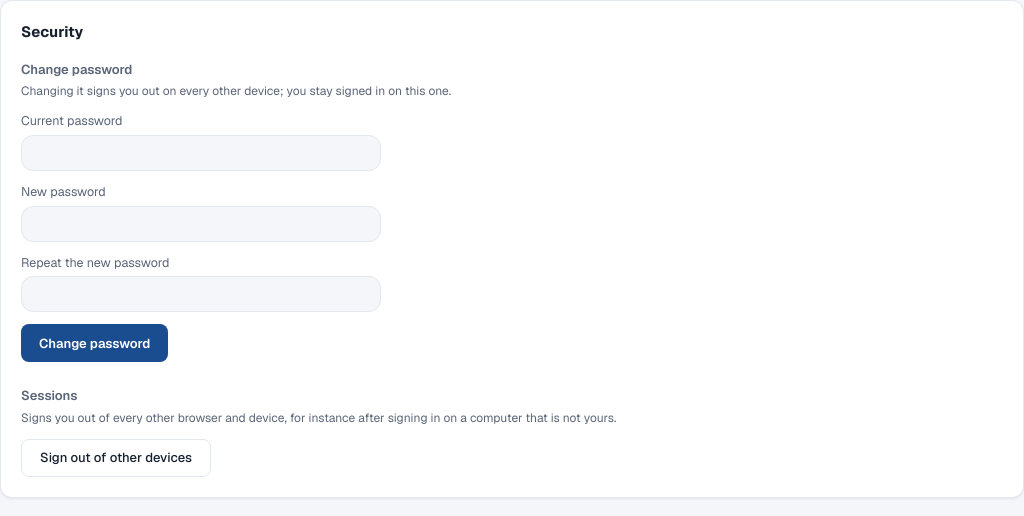
Test: changing the password › checks the minimum length before sending anything
Step 1. Type "old-password" into the password field labelled "Current password" → (201, 153), box [21,135,381,171]
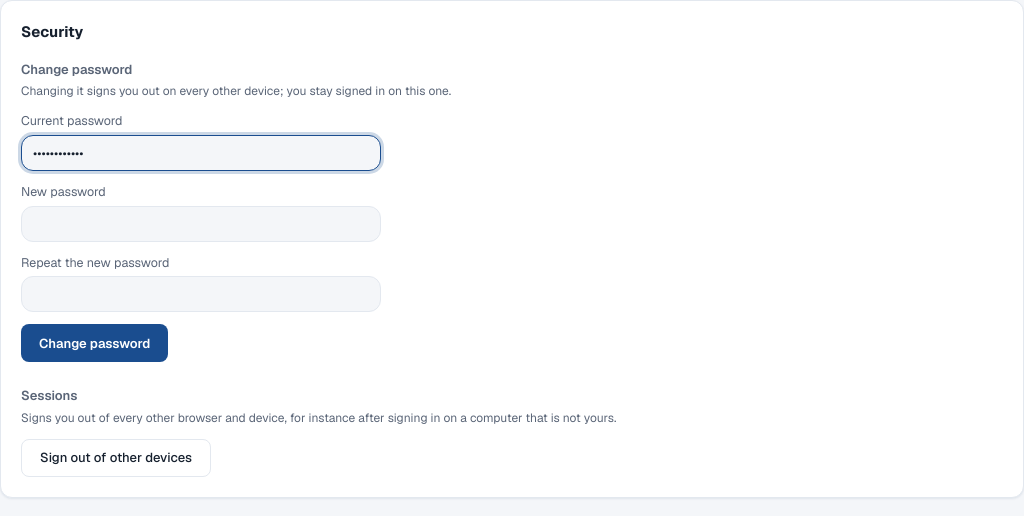
Step 2. Type "short" into the password field labelled "New password" → (201, 224), box [21,206,381,242]
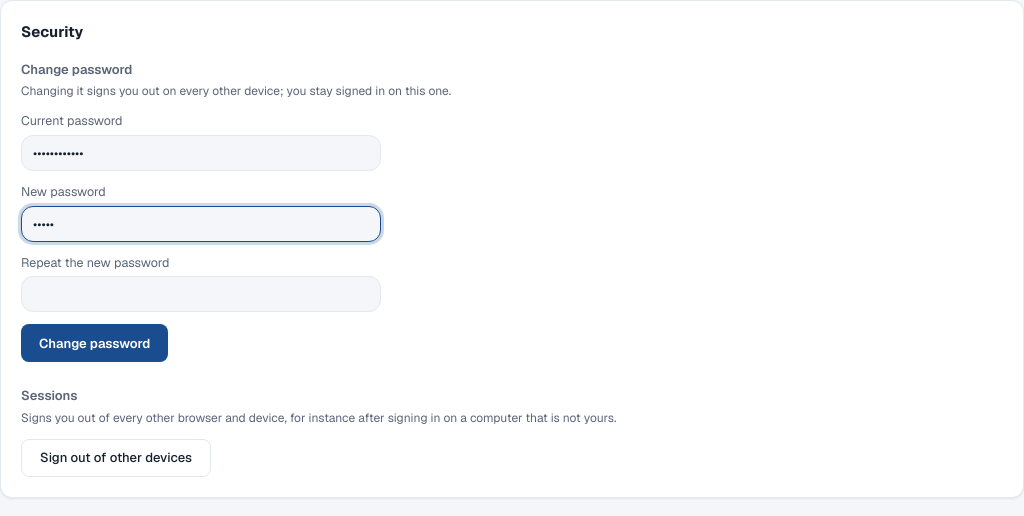
Step 3. Type "short" into the password field labelled "Repeat the new password" → (201, 294), box [21,276,381,312]
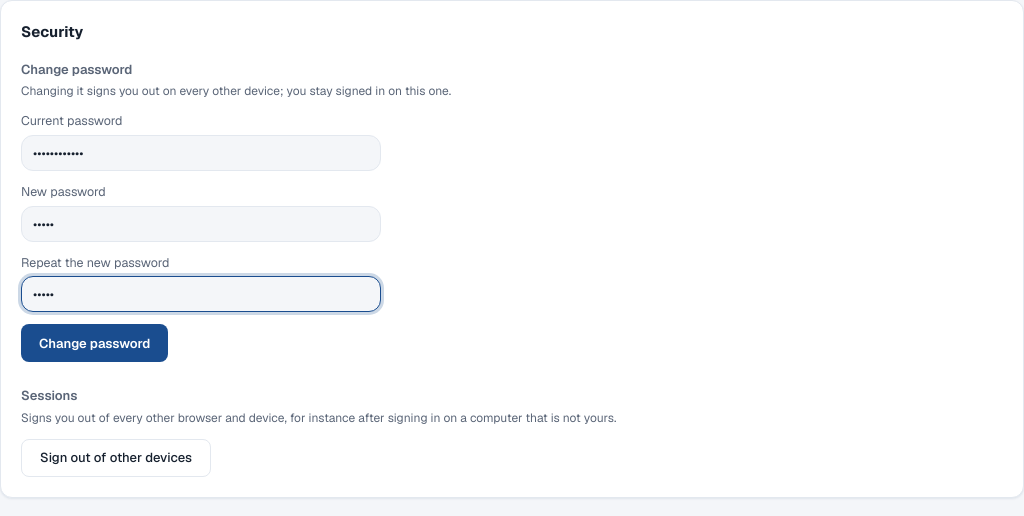
Step 4. Click the button "Change password" → (95, 343), box [21,324,168,362]
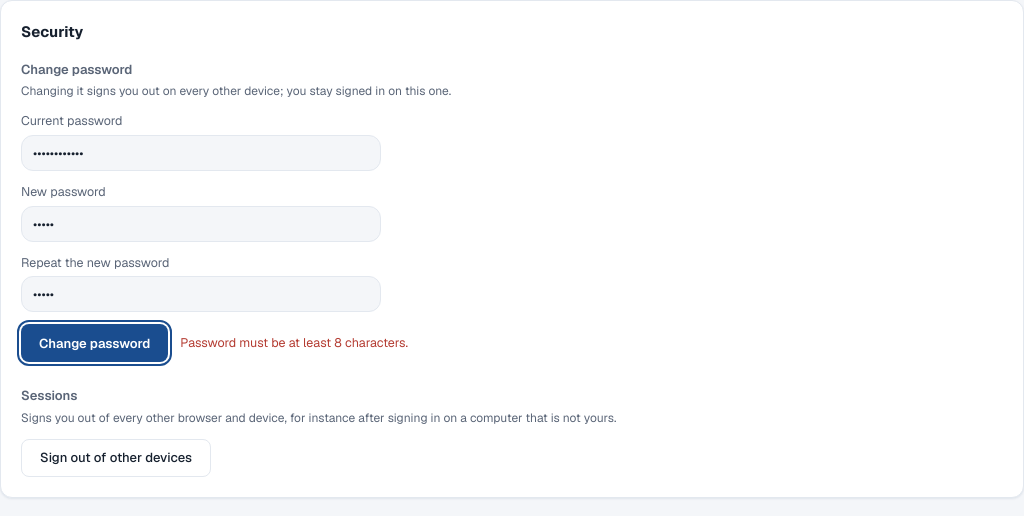
Check: the message shows "at least 8 characters", box [180,334,408,351]
